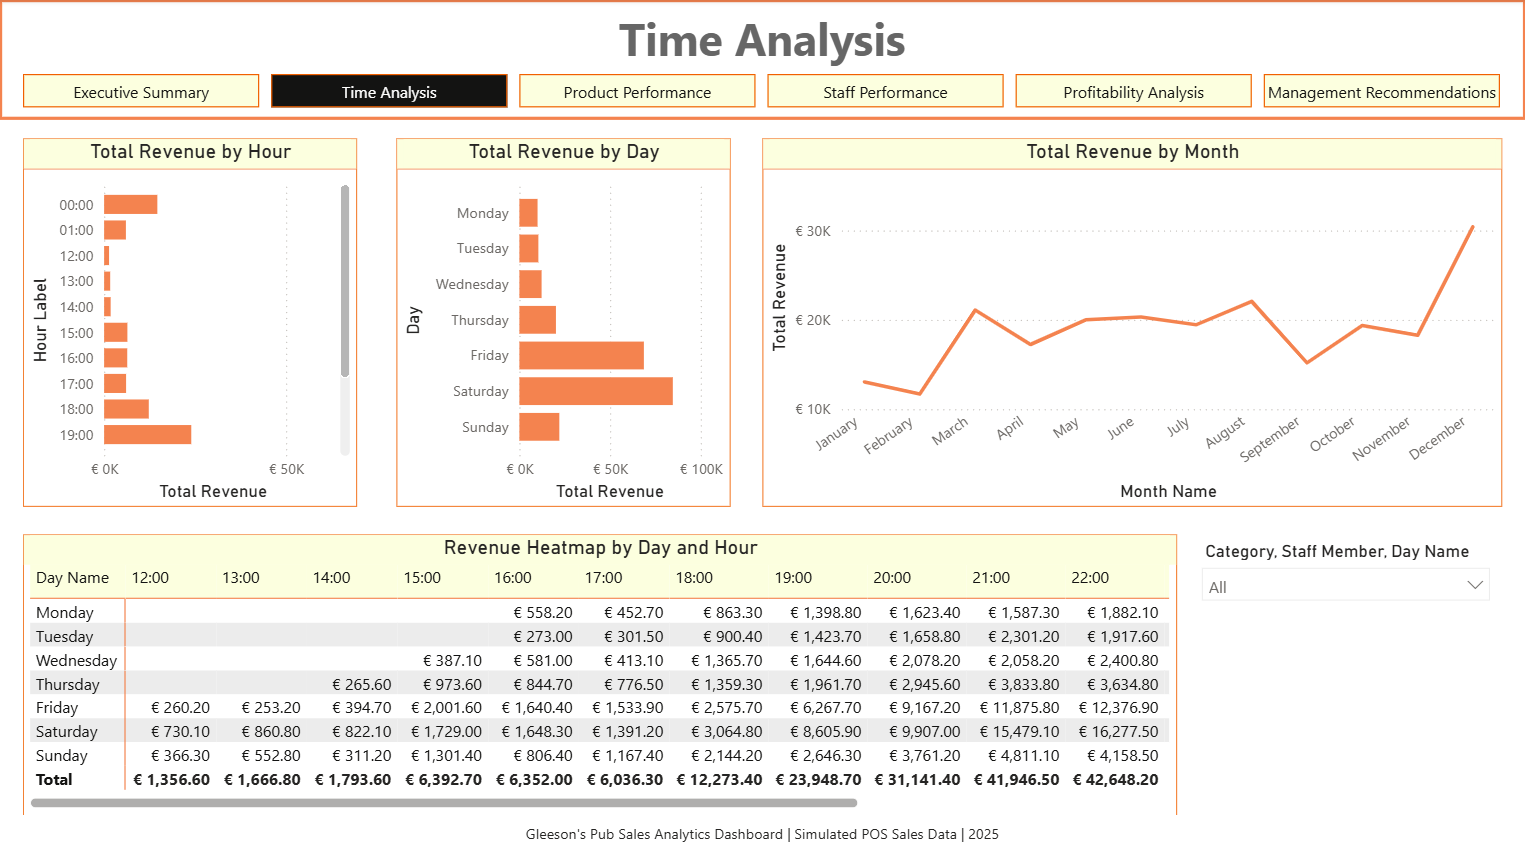

The dashboard page shown, as its layout file describes it:
{"tool":"powerbi","page":{"name":"Time Analysis","canvas":[1280,720],"ordinal":1},"visuals":[{"type":"clusteredBarChart","title":"Total Revenue by Hour","fields":{"Y":["pub_sales_data.Total Revenue"],"Category":["pub_sales_data.Hour Label"]},"box":[20,117.1,280,308.6],"z":0},{"type":"barChart","title":"Total Revenue by Month","fields":{"Category":["pub_sales_data.Month Name"],"Y":["pub_sales_data.Total Revenue"]},"box":[332.9,117.1,280,308.6],"z":1000},{"type":"lineChart","title":"Total Revenue by Month ","fields":{"Category":["pub_sales_data.Month Name"],"Y":["pub_sales_data.Total Revenue"]},"box":[640,117.1,620,308.6],"z":2000},{"type":"pivotTable","title":"Revenue Heatmap by Day and Hour","fields":{"Values":["pub_sales_data.Total Revenue"],"Rows":["pub_sales_data.Day Name"],"Columns":["pub_sales_data.Trading Hour Label"]},"box":[20,448.6,967.1,235.7],"z":3000},{"type":"textbox","box":[0,0,1280,101.4],"z":4000},{"type":"slicer","fields":{"Values":["pub_sales_data.Category","pub_sales_data.Staff Member","pub_sales_data.Day Name"]},"box":[998.6,448.6,261.4,64.3],"z":5000},{"type":"textbox","box":[0,684.3,1280,35.7],"z":6000},{"type":"pageNavigator","box":[20,62.9,1240,28.6],"z":7000}]}

Visuals, with their boxes in screenshot pixels (x1, y1, x2, y2), scaled from the page's 1280x720 canvas onto the 1525x855 screenshot:
"Total Revenue by Hour" clusteredBarChart: detection(24, 139, 357, 506)
"Total Revenue by Month" barChart: detection(397, 139, 730, 506)
"Total Revenue by Month " lineChart: detection(762, 139, 1501, 506)
"Revenue Heatmap by Day and Hour" pivotTable: detection(24, 533, 1176, 813)
textbox: detection(0, 0, 1524, 120)
slicer - pub_sales_data.Category x pub_sales_data.Staff Member: detection(1190, 533, 1501, 609)
textbox: detection(0, 813, 1524, 854)
pageNavigator: detection(24, 75, 1501, 109)
